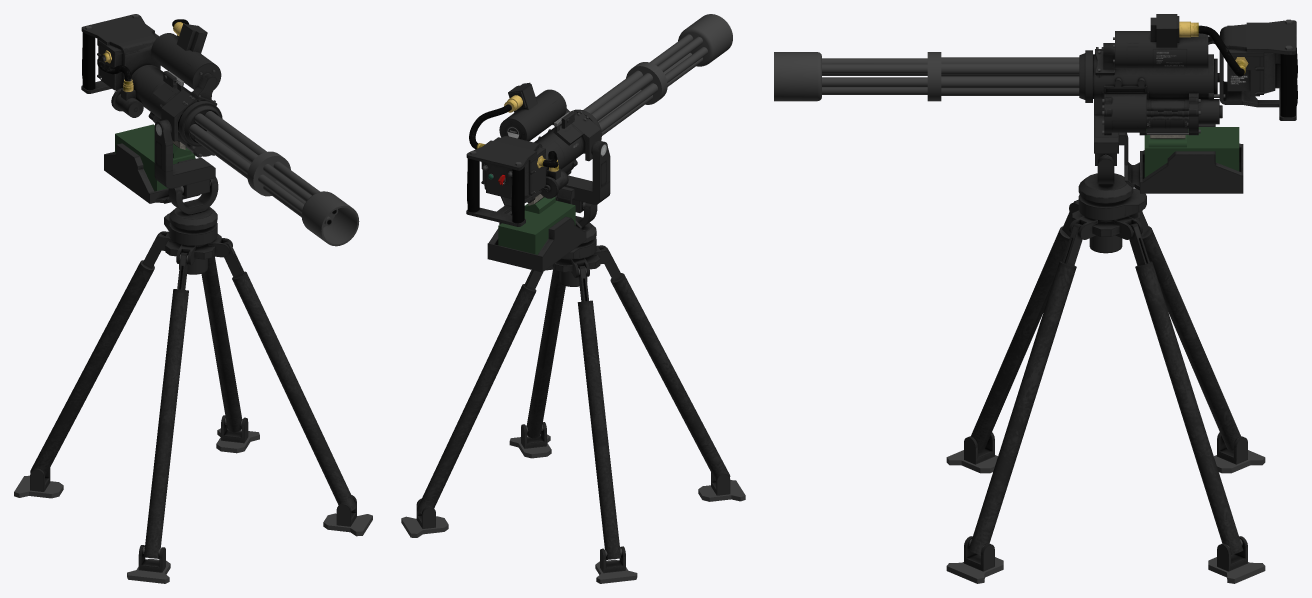
The model's file is SentryGun.fbx.
The picture shows the model from 3 angles, left to right: view 1: azimuth 30°, elevation 25°; view 2: azimuth 150°, elevation 25°; view 3: azimuth 270°, elevation 25°; orthographic projection. The views are drawn at different scales.
Parts seen in each view (by area): view 1: SentryGun, GunBody, Barrels, VerticalAxis; view 2: SentryGun, GunBody, Barrels; view 3: SentryGun, GunBody, Barrels.
Part boxes in pixels (x1,y1,x2,y2): SentryGun: (14, 207, 372, 583); GunBody: (81, 14, 222, 203); Barrels: (184, 105, 359, 246); VerticalAxis: (168, 177, 218, 214); SentryGun: (401, 222, 745, 583); GunBody: (466, 82, 610, 272); Barrels: (583, 14, 732, 135); SentryGun: (946, 173, 1265, 583); GunBody: (1085, 14, 1297, 193); Barrels: (774, 52, 1085, 101).
Size of the model in its own units: 116 by 207 by 191.
